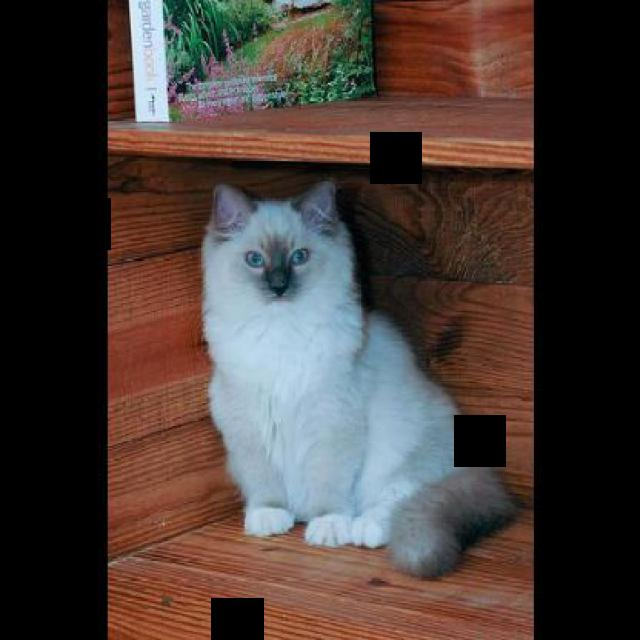unauthorized: (198, 178, 520, 578)
